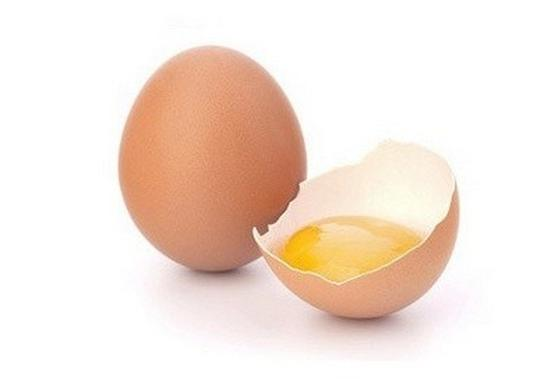egg: (126, 46, 309, 279)
